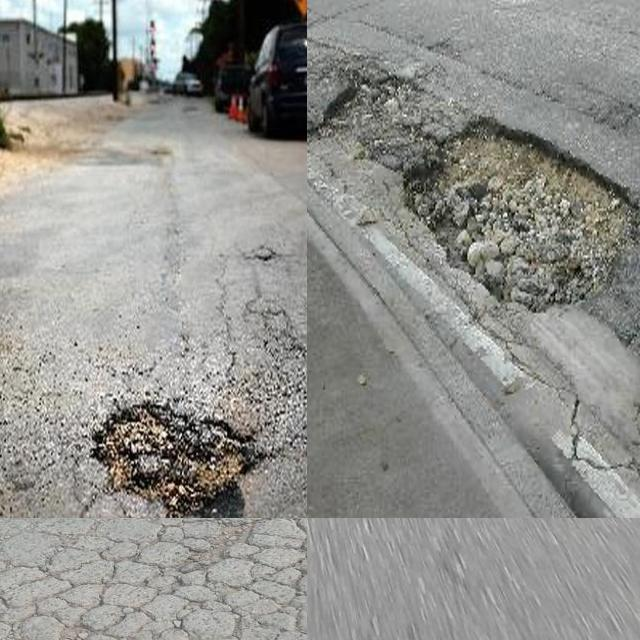Lubang: (409, 125, 640, 305), (96, 405, 257, 507), (307, 75, 416, 154)
Retak Buaya: (0, 518, 307, 640)
